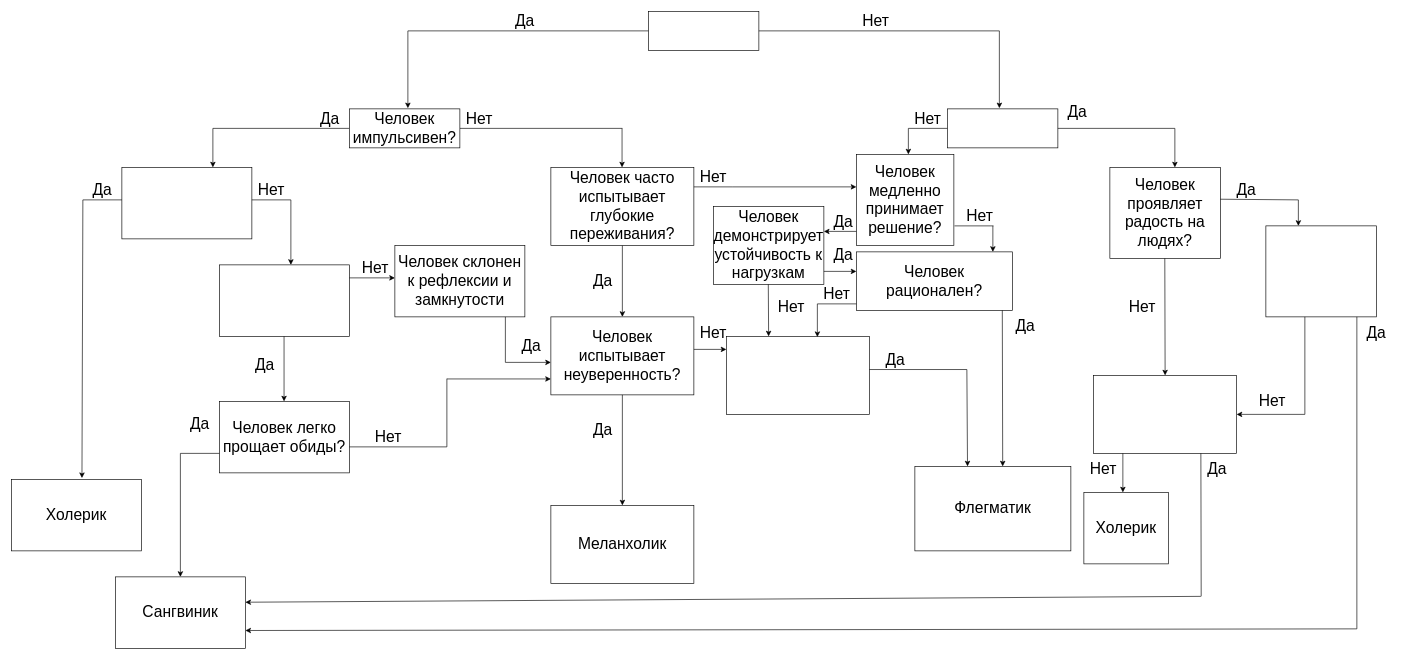
Some shapes in this 1407 by 660 pixel diagram are drawn without their labels. The shapes that lost their labels are listed below. From the top down, each one's centre as x and y in pixels, then its label:
the point at 703,30: Человек эмоционален?
the point at 1002,128: Человек уравновешен?
the point at 186,203: Человек быстро вспыхивает и остывает?
the point at 1320,271: Человек любит быть в центре внимания?
the point at 284,300: Человек общителен?
the point at 797,375: Человек устойчив к стрессам?
the point at 1165,414: Человек быстро адаптируется к новым условиям?
